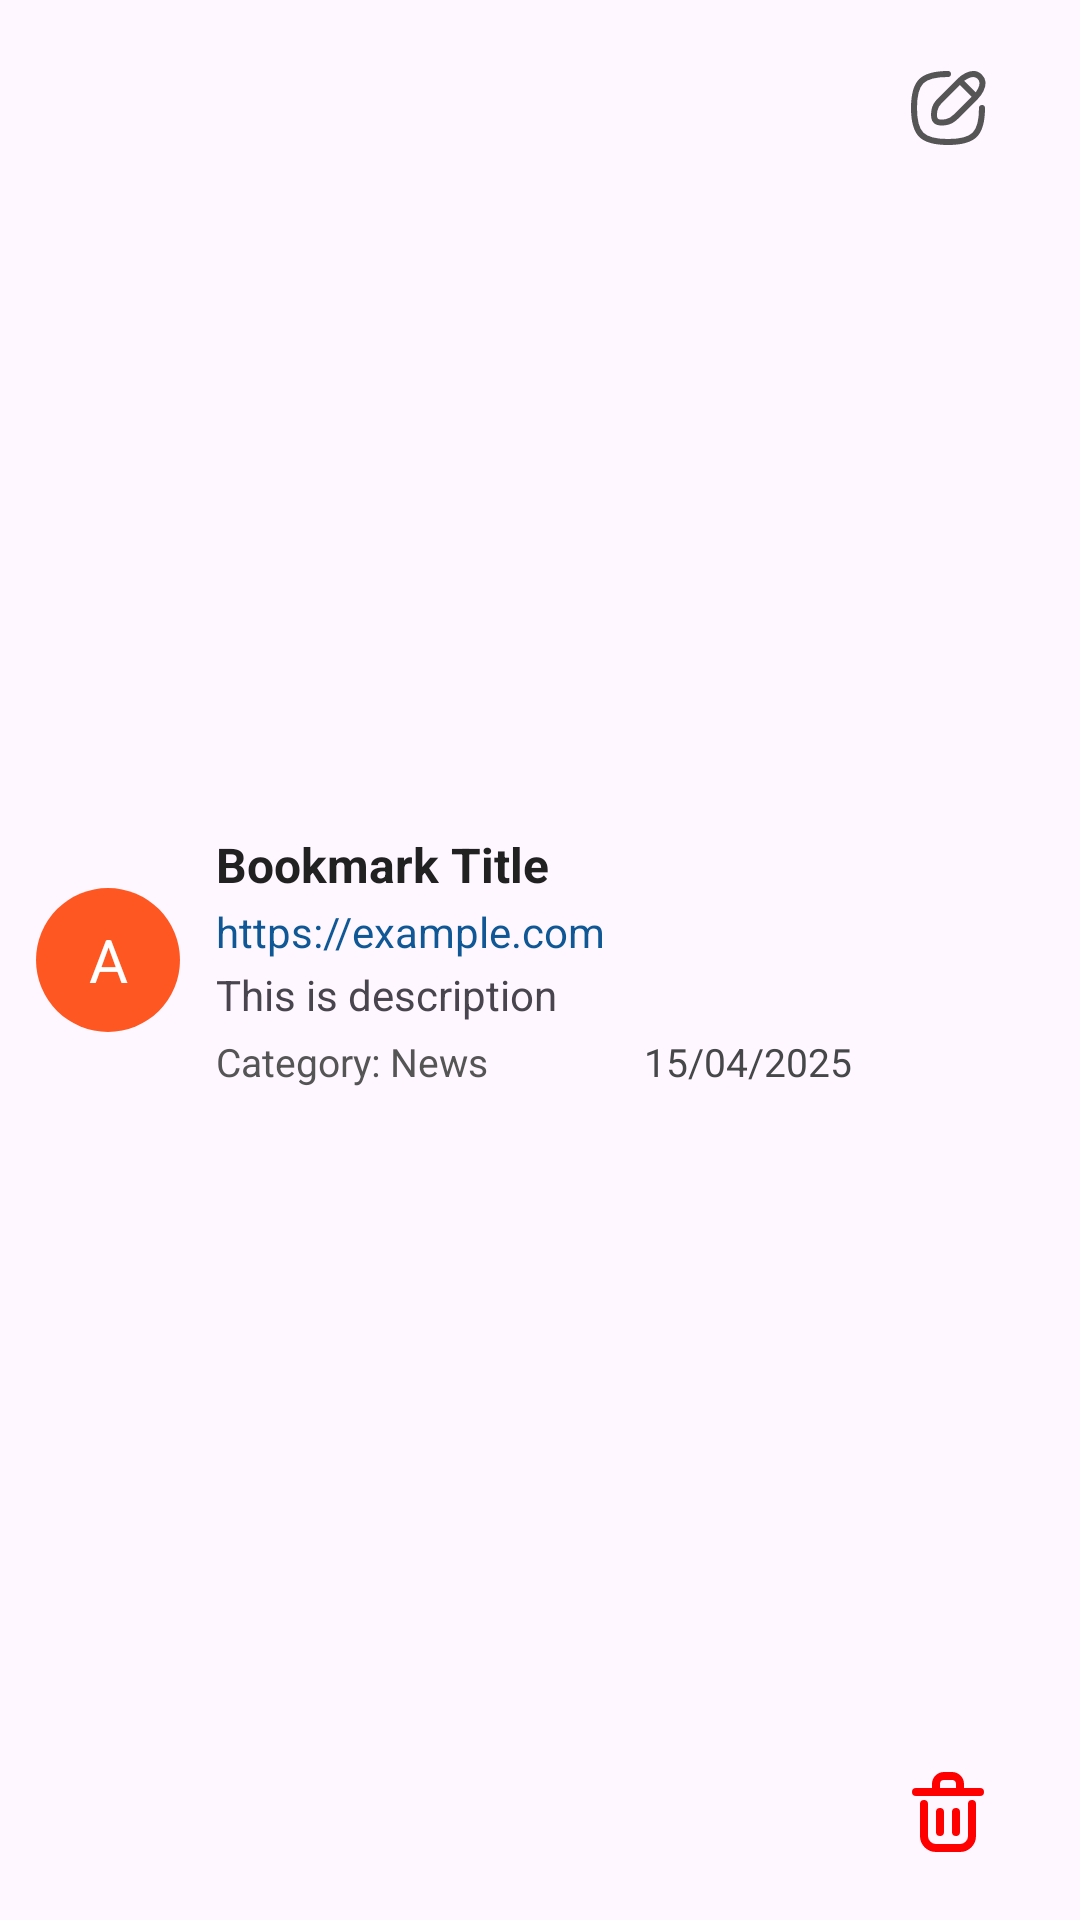

Named icons in this screenshot (1080w x 1920h) and their centers, point (x, y):
Delete: point (948, 1812)
Edit: point (948, 108)
